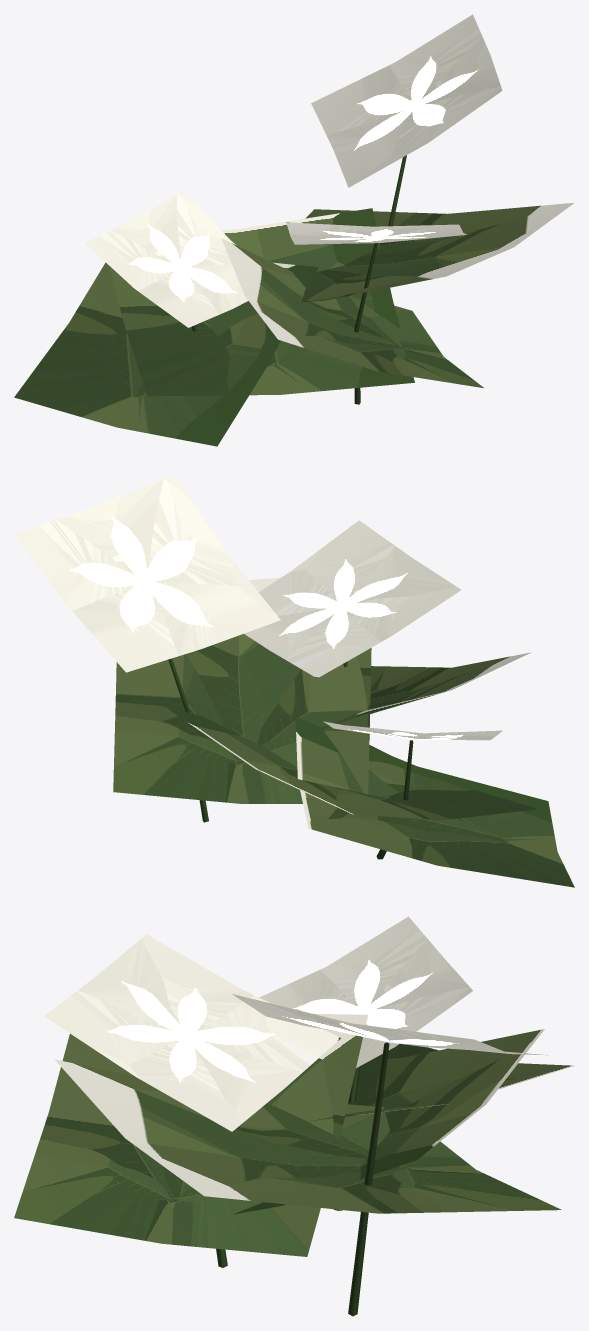
File: CaveFlowers_C_Sparse.fbx
3 renders of one model, top to bottom at view 1: azimuth 30°, elevation 25°; view 2: azimuth 150°, elevation 25°; view 3: azimuth 270°, elevation 25°, orthographic. The views are drawn at different scales.
Visible parts, largest first — view 1: CaveFlowers_C_Sparse; view 2: CaveFlowers_C_Sparse; view 3: CaveFlowers_C_Sparse.
Part boxes in pixels (x1,y1,x2,y2): CaveFlowers_C_Sparse: [14, 14, 574, 446]; CaveFlowers_C_Sparse: [14, 475, 574, 887]; CaveFlowers_C_Sparse: [14, 916, 574, 1316].
Bounding box in the file's own units: 0.3401 × 0.1803 × 0.2475.
1 material, 1 textured.
